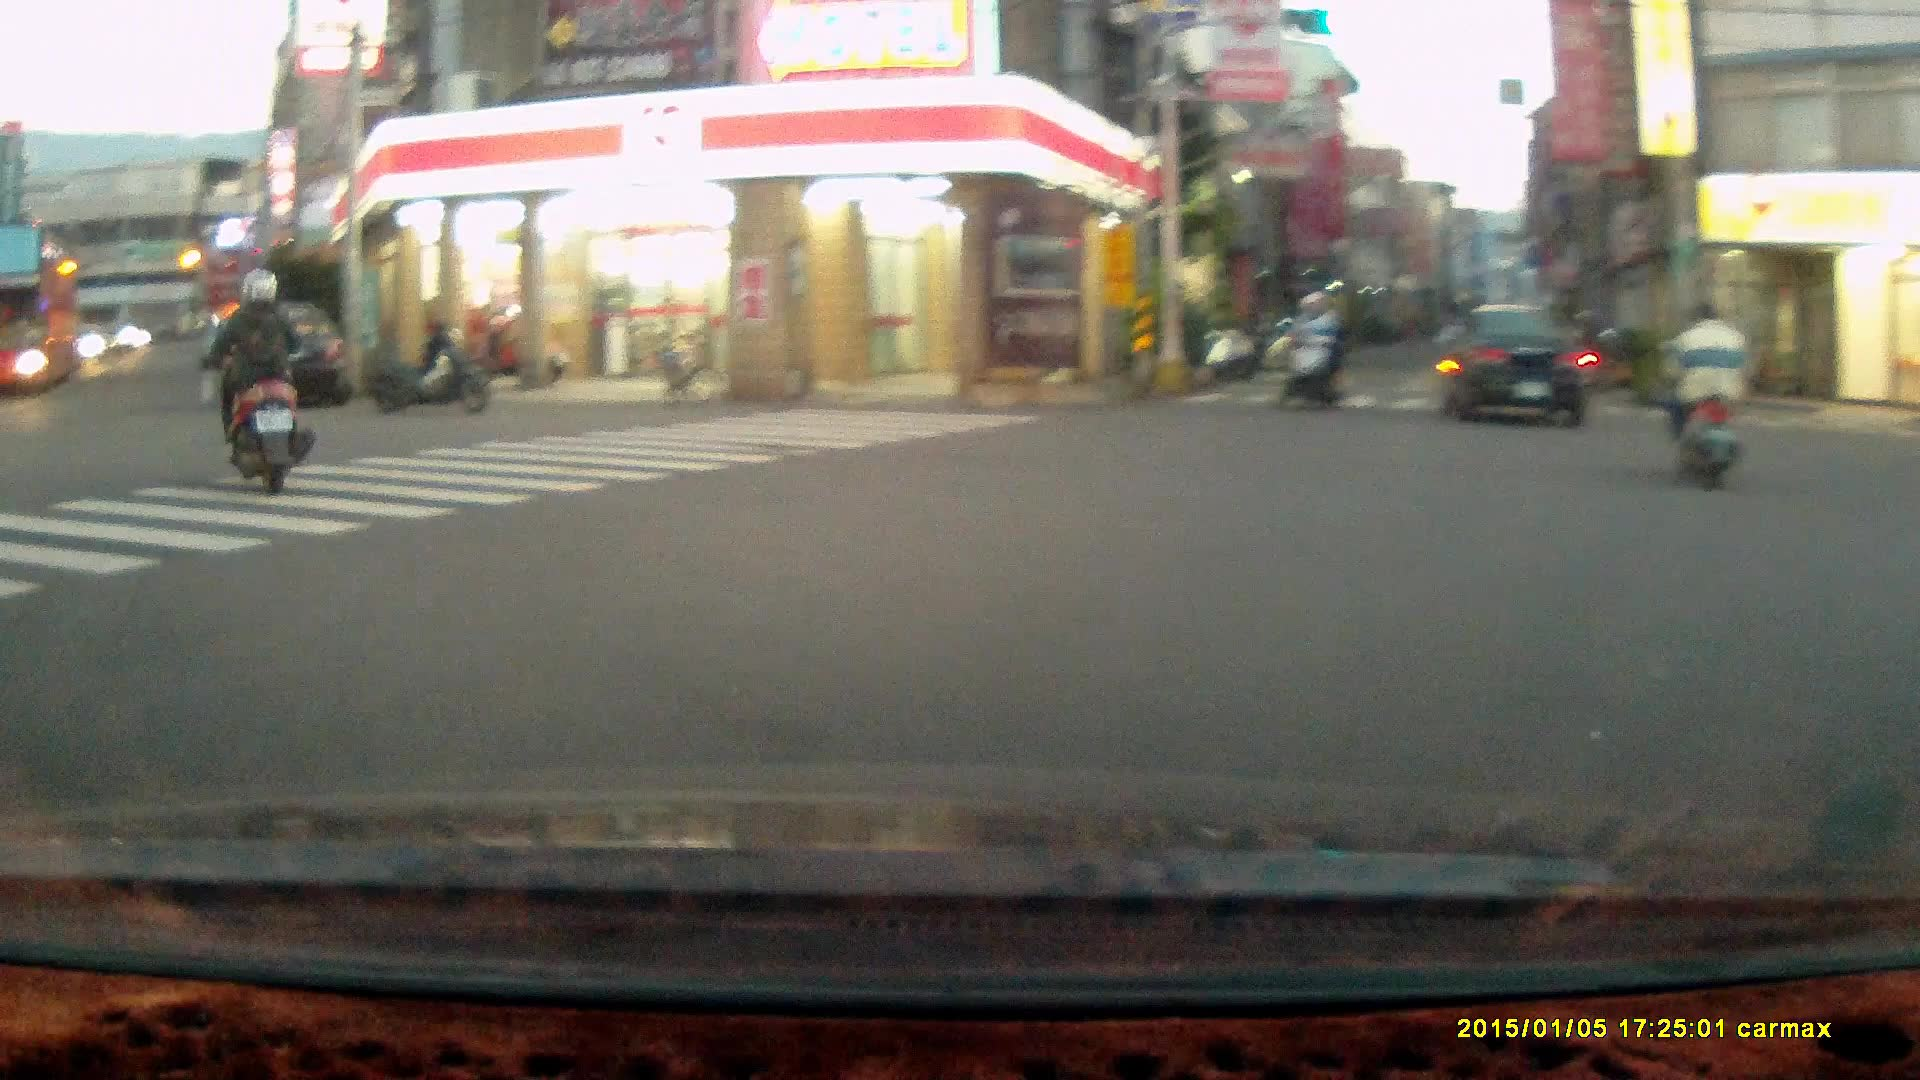rider: (207, 267, 313, 495), (1657, 293, 1752, 492), (1275, 288, 1345, 416)
vehicle: (1437, 302, 1599, 428), (1, 216, 84, 402), (219, 298, 354, 403)
